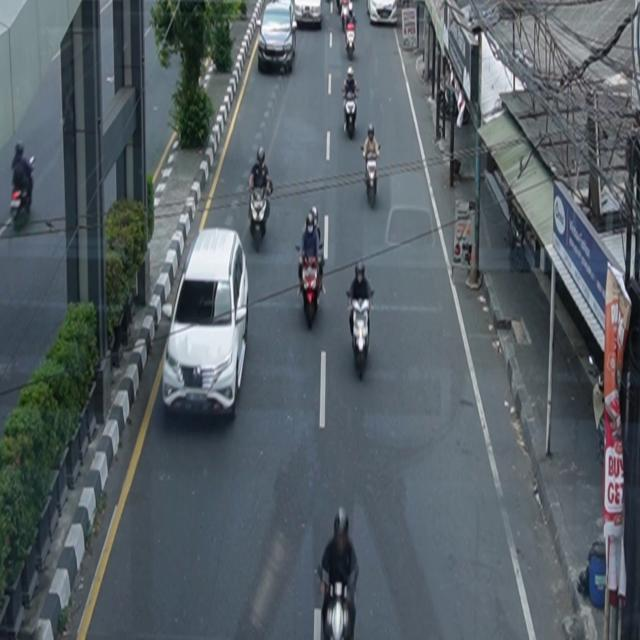car: (162, 228, 250, 421), (258, 1, 298, 75)
